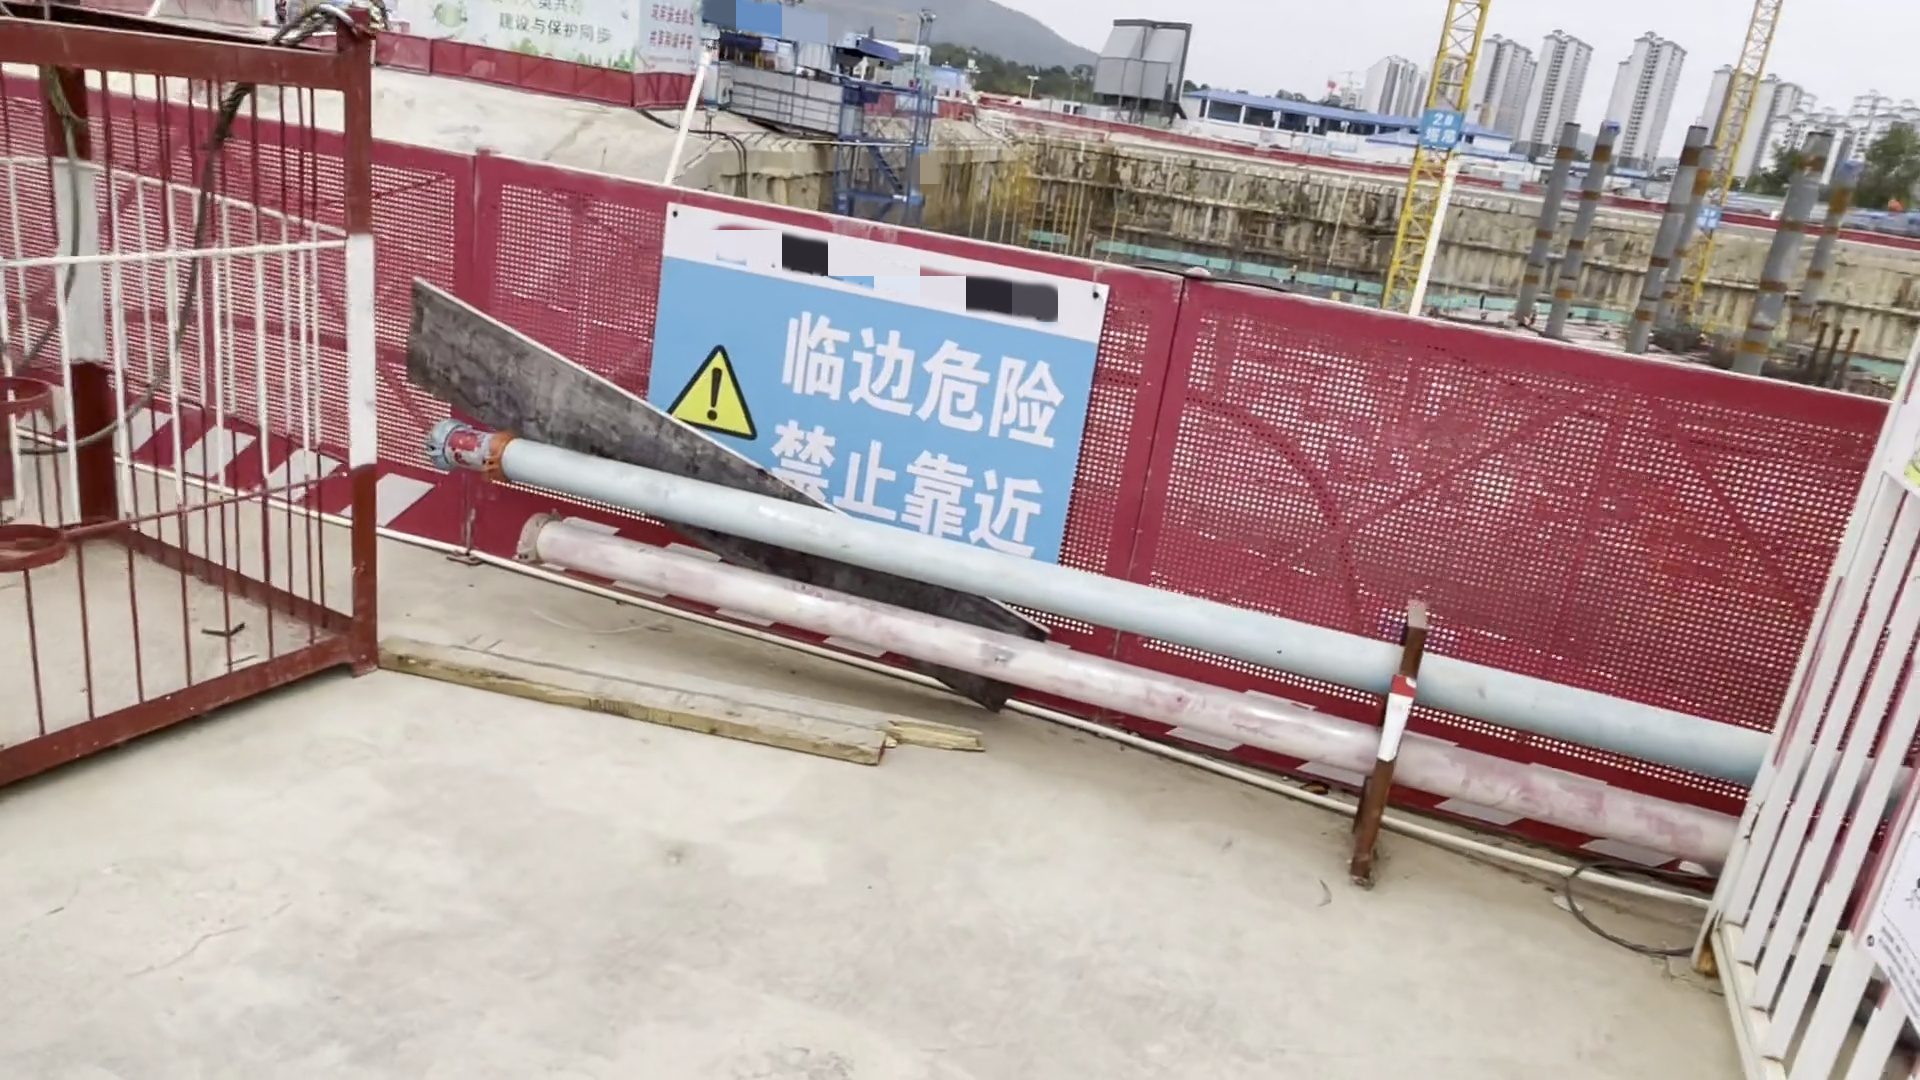fence: (1150, 261, 1782, 858), (469, 149, 1108, 715), (7, 86, 475, 553)
slogan: (663, 251, 1044, 593)
